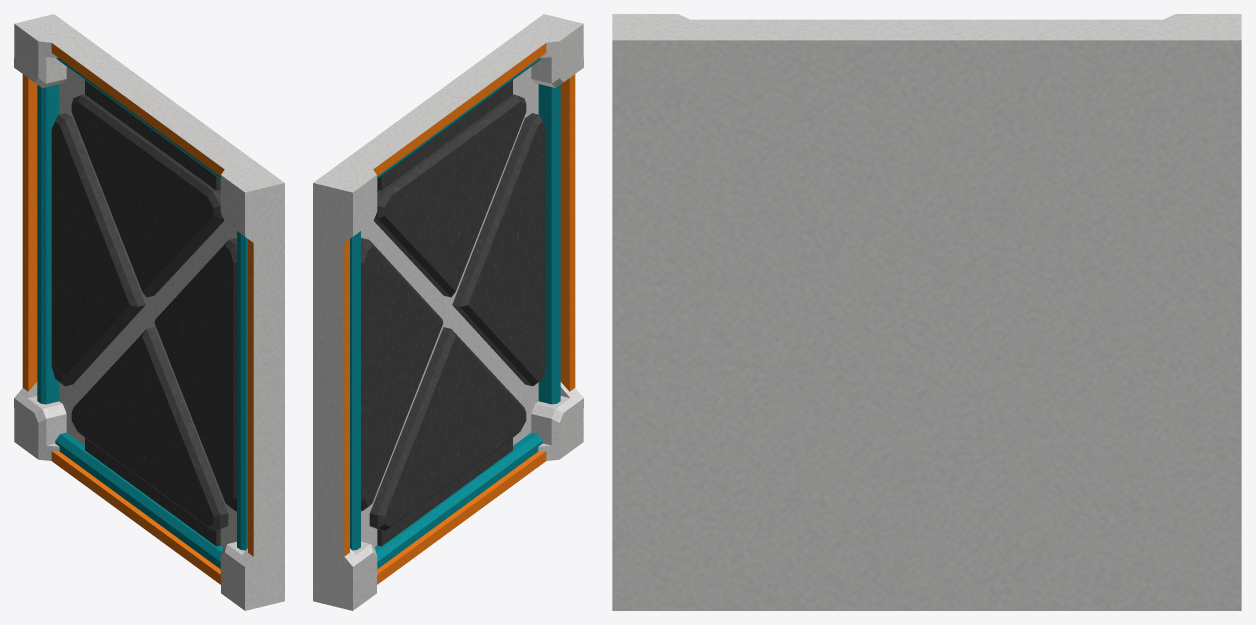
File: Wall_1_LOD0.fbx
3 renders of one model, left to right at view 1: azimuth 30°, elevation 25°; view 2: azimuth 150°, elevation 25°; view 3: azimuth 270°, elevation 25°, orthographic. The views are drawn at different scales.
Visible parts, largest first — view 1: Wall_1_LOD0; view 2: Wall_1_LOD0; view 3: Wall_1_LOD0.
Part boxes in pixels (bbox=[...]): Wall_1_LOD0: bbox=[14, 14, 284, 610]; Wall_1_LOD0: bbox=[313, 14, 583, 610]; Wall_1_LOD0: bbox=[612, 14, 1241, 610].
Size of the model in its own units: 20 by 200 by 200.
